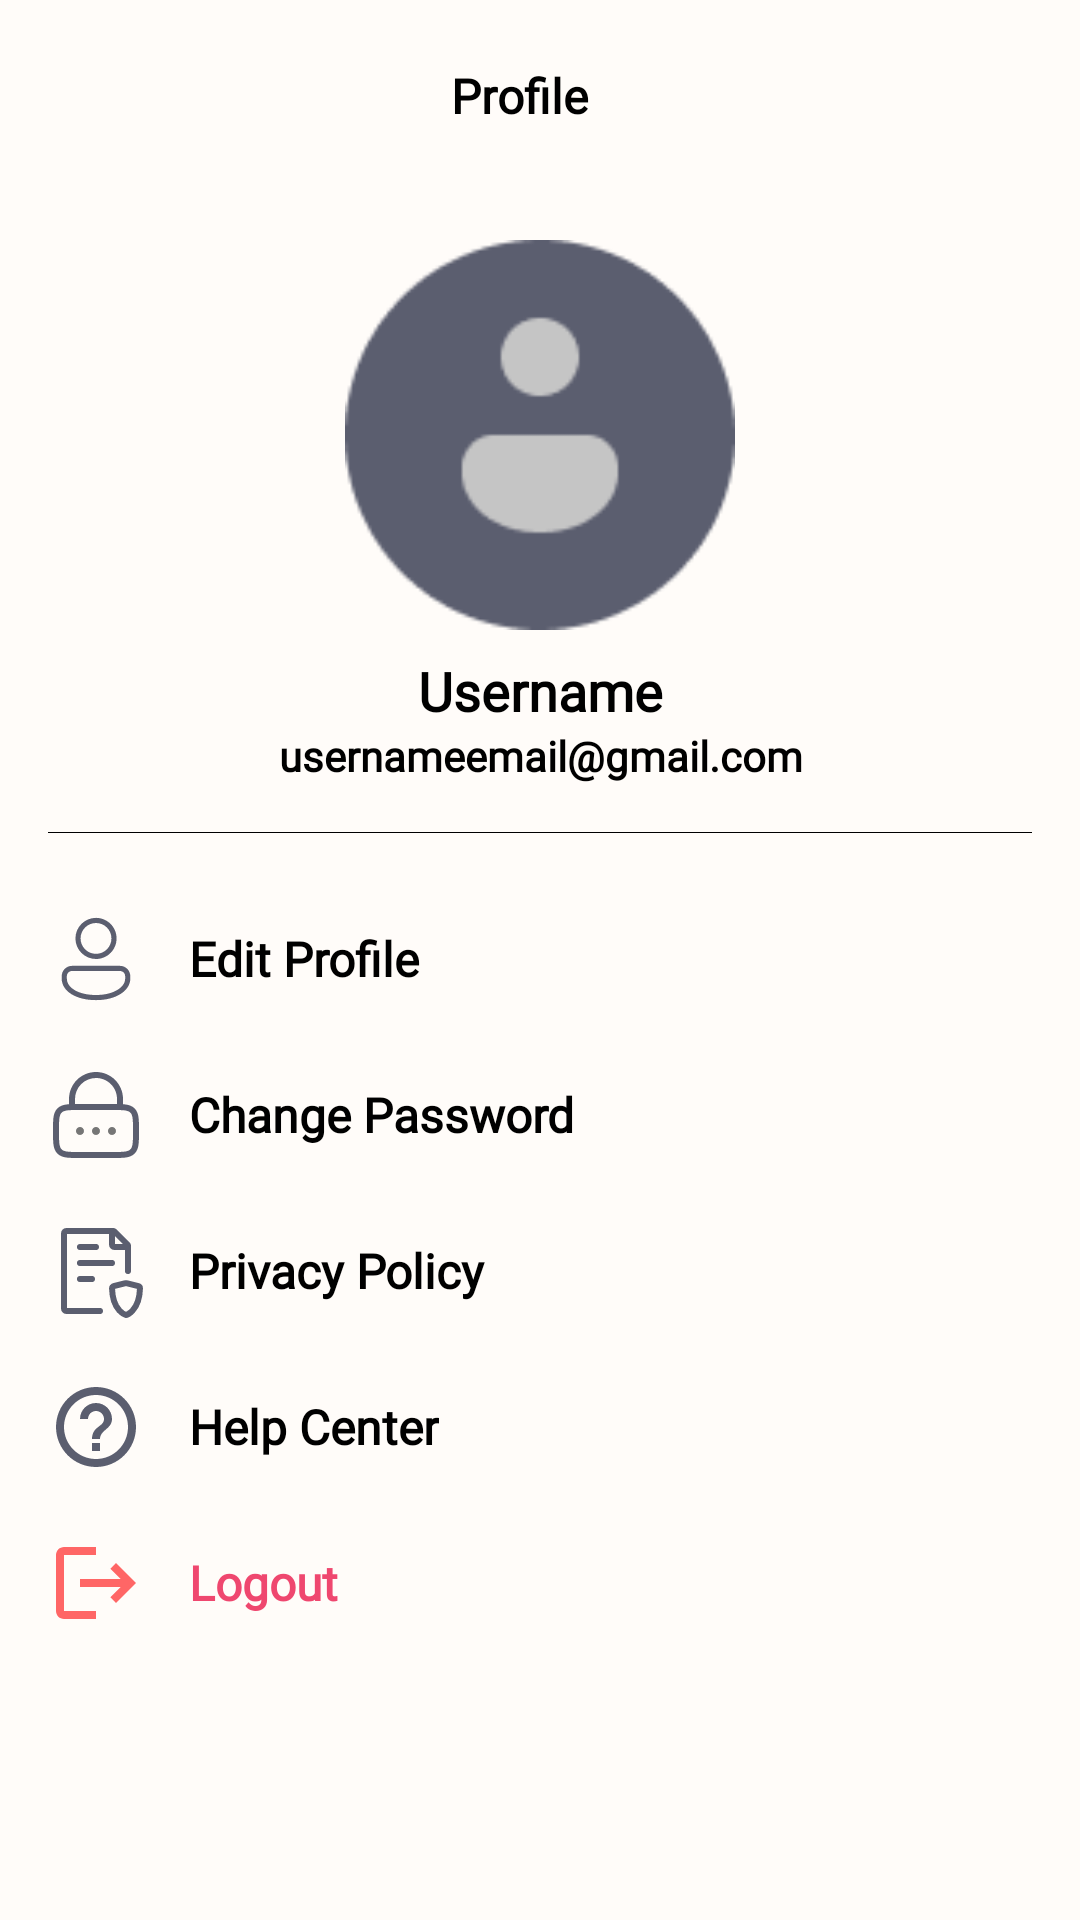

Icons on this 1080*1920 Android screen, each with the point to tap as (x,y):
fluent person: (96,959)
solar lock password: (96,1115)
